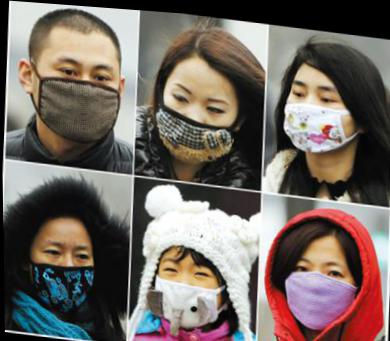OK: (36, 49, 124, 142), (280, 243, 356, 327), (280, 69, 356, 149), (152, 252, 222, 326)
WRONG: (158, 74, 239, 162), (27, 232, 95, 310)
